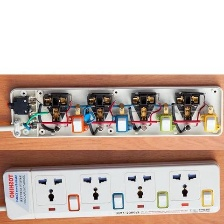three_eye_plug: (0, 158, 224, 222), (7, 81, 223, 143)
